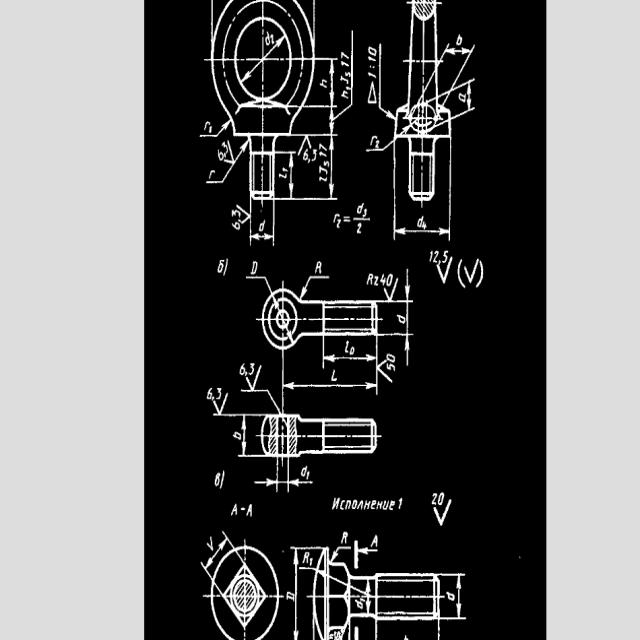marking_line: (281, 351, 379, 396), (378, 266, 413, 389), (316, 55, 339, 202), (293, 133, 340, 199), (391, 204, 451, 244), (213, 411, 262, 457), (290, 545, 313, 640), (204, 139, 247, 186), (255, 459, 316, 492), (439, 44, 473, 103), (334, 31, 355, 120), (243, 37, 284, 82), (321, 337, 378, 369), (437, 140, 452, 244), (393, 139, 408, 243), (378, 41, 395, 121), (379, 332, 415, 369), (248, 201, 275, 248), (200, 530, 230, 572), (441, 571, 466, 620), (378, 270, 412, 305), (284, 460, 317, 495), (317, 57, 337, 109), (253, 458, 281, 495), (453, 77, 475, 124), (241, 388, 280, 413), (277, 149, 295, 201), (353, 539, 379, 571), (300, 274, 330, 298), (198, 119, 229, 139), (245, 275, 272, 292), (364, 139, 393, 154), (331, 546, 351, 561), (364, 580, 372, 611)
numeric: (386, 272, 394, 287), (387, 351, 396, 364), (248, 362, 255, 378), (231, 207, 242, 217), (371, 534, 378, 549), (318, 141, 328, 151), (318, 166, 329, 175), (232, 429, 241, 440), (221, 141, 228, 155), (387, 363, 397, 372), (340, 51, 350, 60), (380, 272, 386, 287), (442, 250, 449, 262), (215, 387, 222, 399), (438, 491, 444, 505), (368, 46, 377, 55), (231, 222, 241, 230), (318, 151, 328, 159), (311, 148, 317, 161), (356, 222, 362, 235), (433, 251, 439, 264), (431, 492, 437, 505), (217, 149, 224, 160), (362, 207, 368, 219), (206, 387, 212, 399), (340, 61, 350, 68), (367, 73, 377, 80), (429, 249, 434, 263), (397, 497, 402, 511), (318, 176, 328, 182), (303, 148, 307, 162), (240, 362, 244, 376), (270, 34, 275, 44), (305, 470, 310, 480), (368, 56, 376, 62), (337, 218, 341, 228), (349, 347, 354, 355), (422, 221, 427, 229), (375, 139, 379, 148), (309, 558, 313, 566), (344, 72, 350, 77), (209, 125, 212, 133), (359, 598, 365, 602)
special_symbol: (433, 499, 452, 526), (436, 259, 453, 284), (245, 364, 262, 389), (378, 358, 394, 382), (464, 259, 479, 282), (213, 391, 228, 412), (456, 258, 465, 290), (224, 139, 234, 165), (236, 204, 248, 225), (368, 79, 378, 104), (476, 260, 483, 289), (343, 215, 352, 223)
